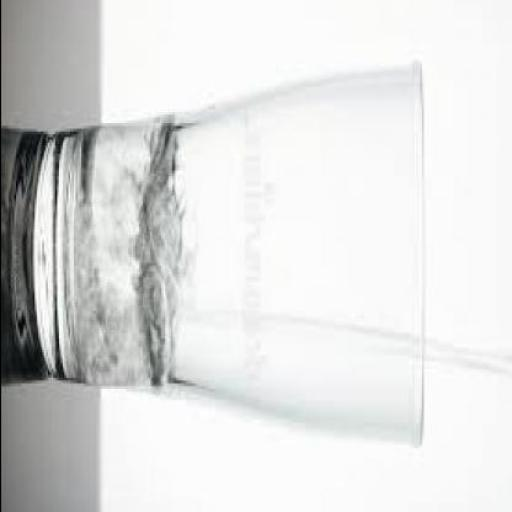glass: (32, 67, 425, 451)
